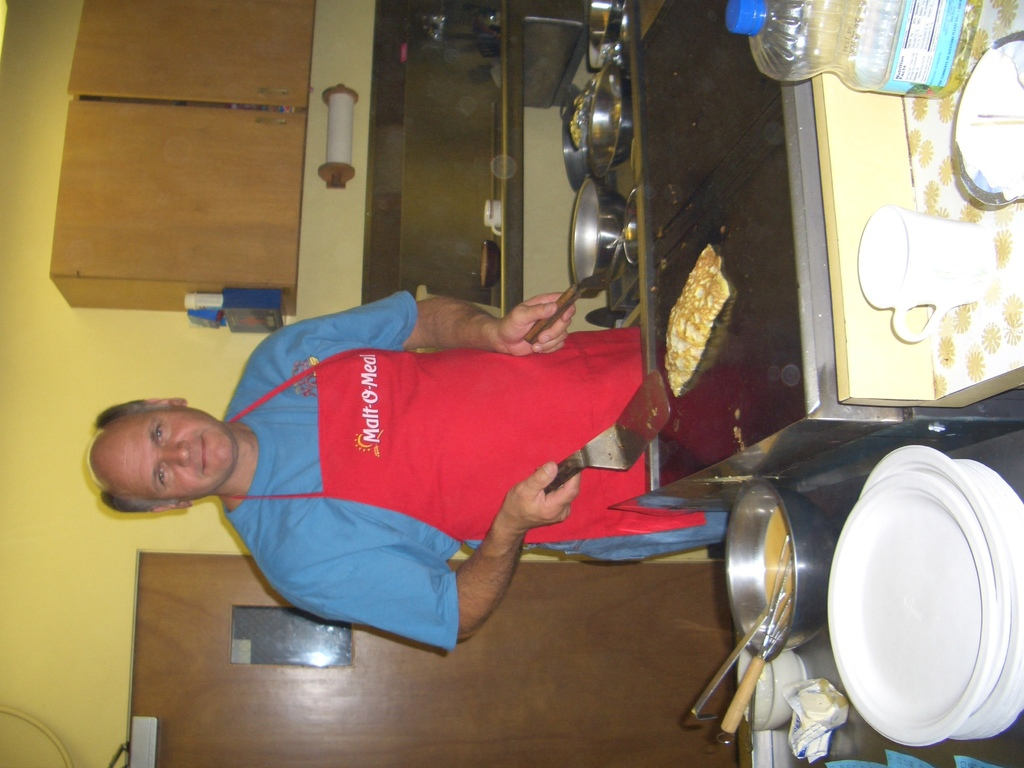plate: (825, 468, 995, 747)
